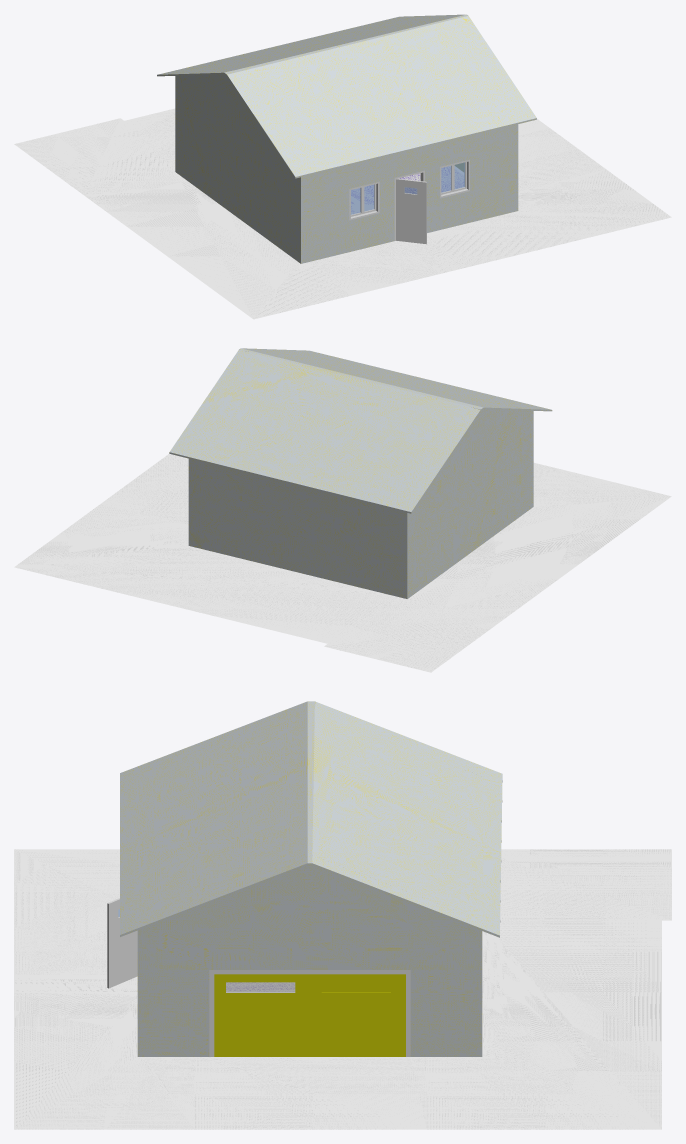
The picture shows the model from 3 angles, top to bottom: view 1: azimuth 30°, elevation 25°; view 2: azimuth 150°, elevation 25°; view 3: azimuth 270°, elevation 25°; orthographic projection. The views are drawn at different scales.
Parts seen in each view (by area): view 1: ID713, ID1976, ID1963, group_6, ID1989, SketchUp; view 2: ID713, ID1976, ID1963; view 3: ID713, ID1976, ID1963, group_22 (×2), ID1989, group_6, group_3, group_21, group_23, SketchUp.
Part boxes in pixels (<box>): ID713: <box>157,14,536,263</box>; ID1976: <box>14,108,671,319</box>; ID1963: <box>455,119,605,190</box>; group_6: <box>396,178,426,244</box>; ID1989: <box>397,237,467,273</box>; SketchUp: <box>351,166,463,213</box>; ID713: <box>169,348,552,598</box>; ID1976: <box>14,462,671,672</box>; ID1963: <box>100,453,188,525</box>; ID713: <box>120,701,502,1056</box>; ID1976: <box>14,849,671,1129</box>; ID1963: <box>195,1057,426,1129</box>; group_22 (×2): <box>214,974,405,1056</box>; ID1989: <box>14,975,137,992</box>; group_6: <box>107,898,137,988</box>; group_3: <box>209,970,410,1056</box>; group_21: <box>321,982,390,992</box>; group_23: <box>226,982,295,992</box>; SketchUp: <box>226,982,294,991</box>.
Size of the model in its own units: 545 by 183 by 541.
